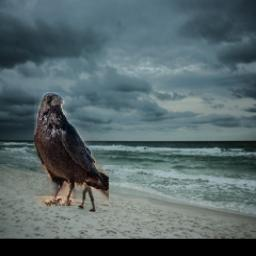Crow: (34, 93, 109, 207)
